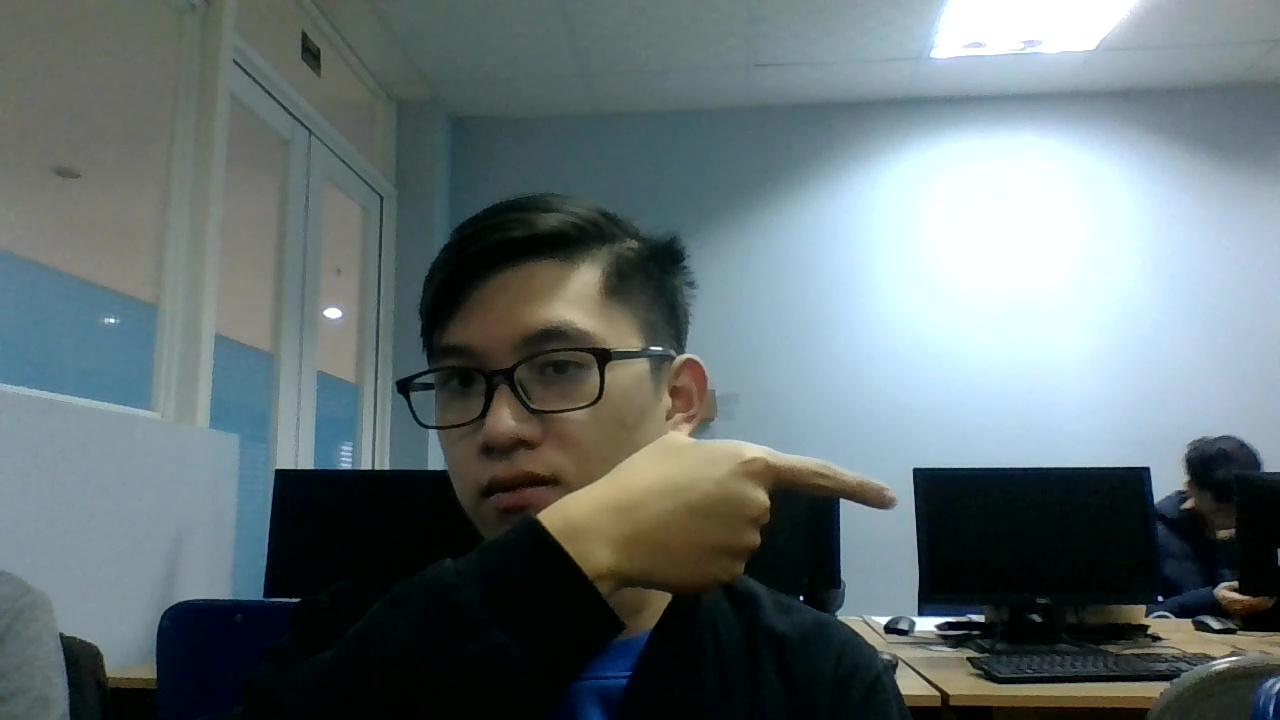left: (576, 422, 904, 611)
